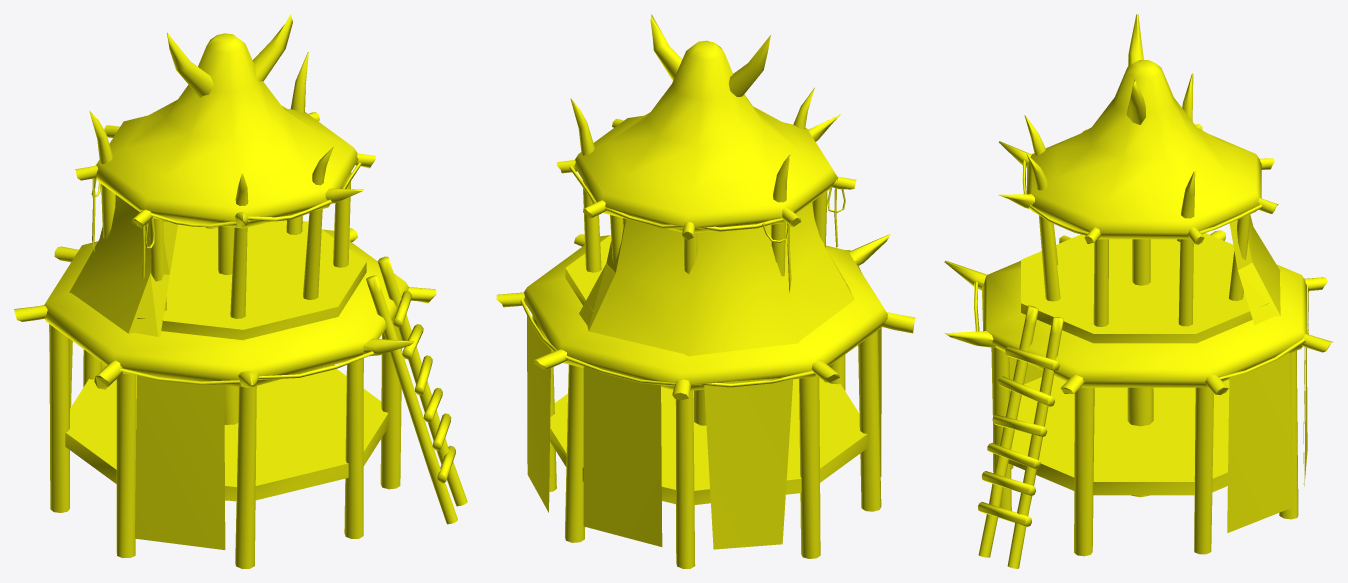
File: camp_redthief_build_03.glb
3 renders of one model, left to right at view 1: azimuth 30°, elevation 25°; view 2: azimuth 150°, elevation 25°; view 3: azimuth 270°, elevation 25°, orthographic. The views are drawn at different scales.
Visible parts, largest first — view 1: camp_redthief_build_03; view 2: camp_redthief_build_03; view 3: camp_redthief_build_03.
Boxes of the visible parts, x1,y1,x2,y2 form: camp_redthief_build_03: (14, 14, 467, 568); camp_redthief_build_03: (496, 14, 915, 568); camp_redthief_build_03: (944, 14, 1332, 568).
Bounding box in the file's own units: 10.53 × 14.1 × 10.99.
3 materials, 3 textured.
